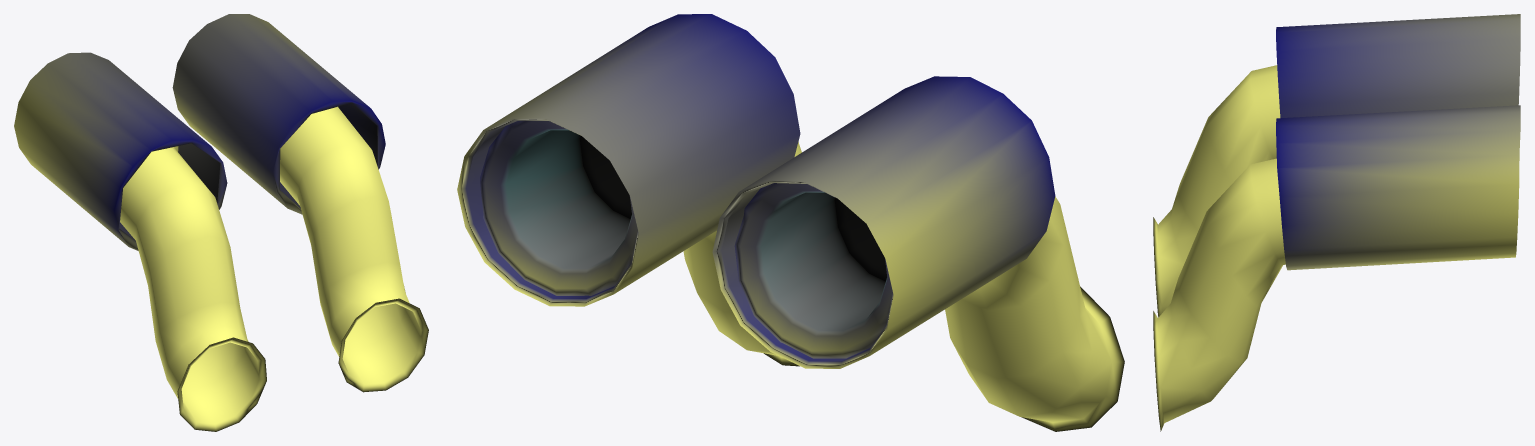
File: Car_Mini_CountrymanJCW_2017_Exhausts_SetA_AltB.fbx
3 renders of one model, left to right at view 1: azimuth 30°, elevation 25°; view 2: azimuth 150°, elevation 25°; view 3: azimuth 270°, elevation 25°, orthographic. The views are drawn at different scales.
Parts seen in each view (by area): view 1: Exhausts 6; view 2: Exhausts 6; view 3: Exhausts 6.
Boxes of the visible parts, box(x1,y1,x2,y2) form: Exhausts 6: box(14, 14, 428, 431); Exhausts 6: box(457, 14, 1124, 431); Exhausts 6: box(1153, 14, 1520, 431).
Bounding box in the file's own units: 0.2081 × 0.1949 × 0.2069.
